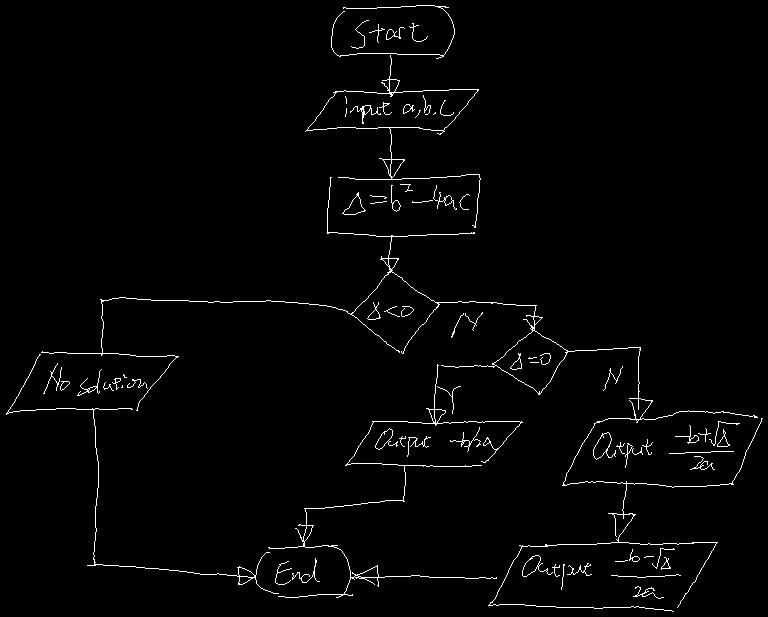arrow: (87, 408, 255, 584), (100, 297, 347, 355), (295, 465, 405, 546), (565, 347, 652, 422), (426, 364, 495, 425), (437, 301, 542, 330), (351, 565, 496, 586), (608, 481, 635, 541), (379, 127, 404, 178), (381, 55, 399, 96), (380, 235, 398, 272)
data: (488, 542, 717, 611), (562, 410, 762, 487), (6, 351, 178, 414), (345, 421, 522, 466), (305, 89, 478, 134)
decision: (347, 269, 439, 353), (492, 327, 568, 394)
process: (327, 174, 480, 236)
terminator: (331, 5, 454, 58), (255, 545, 352, 597)
text: (522, 548, 680, 598), (593, 421, 739, 469), (342, 184, 469, 214), (375, 427, 498, 456), (43, 363, 147, 395), (345, 95, 453, 123), (351, 20, 427, 48), (275, 558, 319, 584), (367, 302, 413, 319), (451, 312, 482, 337), (510, 353, 550, 369), (437, 386, 460, 413), (603, 366, 622, 390)
